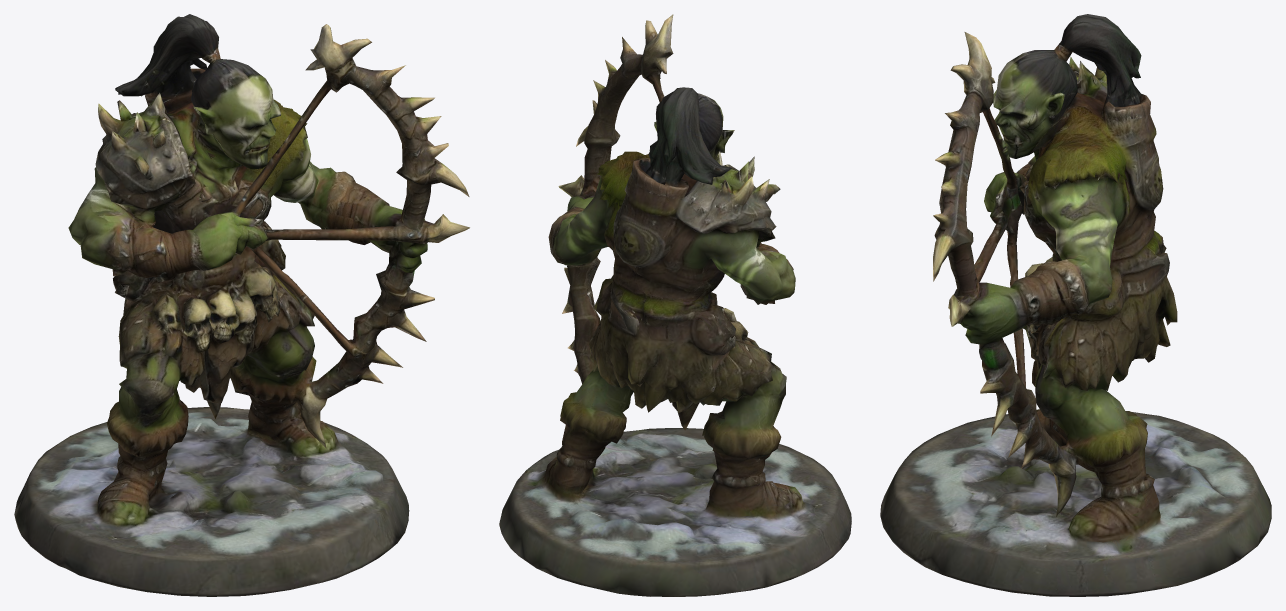
The model's file is orc.glb.
The picture shows the model from 3 angles, left to right: view 1: azimuth 30°, elevation 25°; view 2: azimuth 150°, elevation 25°; view 3: azimuth 270°, elevation 25°; orthographic projection. The views are drawn at different scales.
Bounding box in the file's own units: 1.49 × 2 × 1.39.
Materials: 1 (1 with a texture image).
